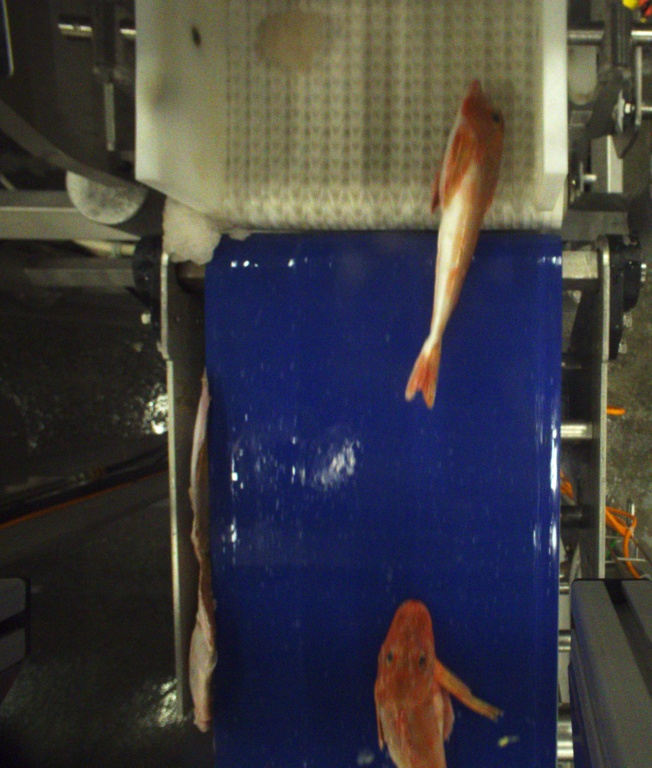GUU: (370, 600, 501, 768)
